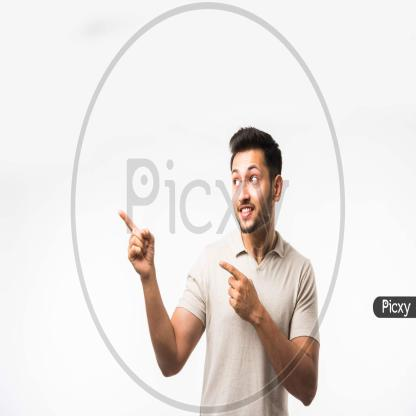Right: (107, 202, 166, 284), (207, 251, 268, 327)
